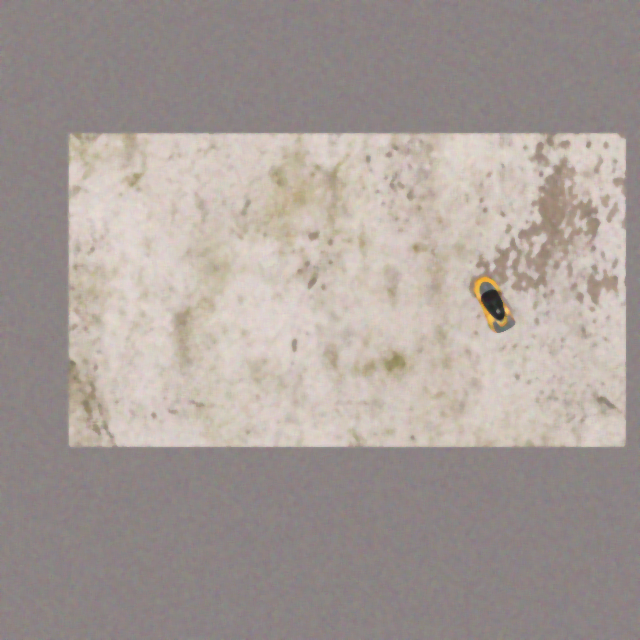car: (467, 272, 520, 336)
